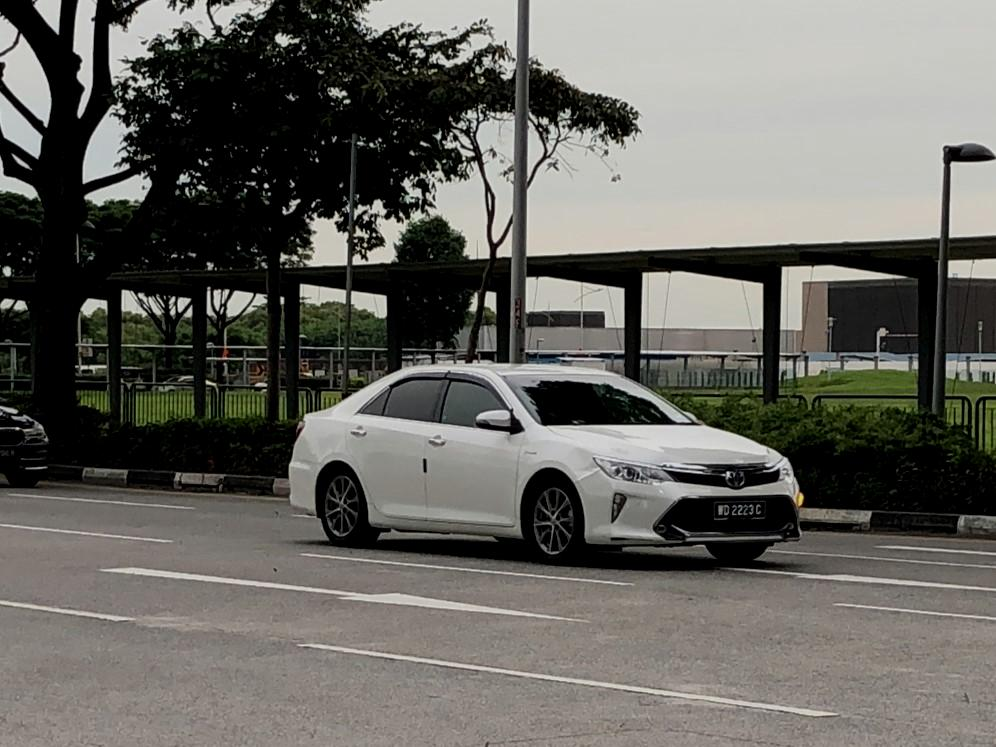License Plate: (715, 502, 770, 520)
